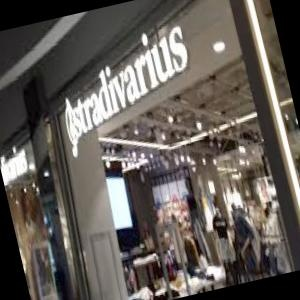stradivarius: (120, 57, 300, 64)
